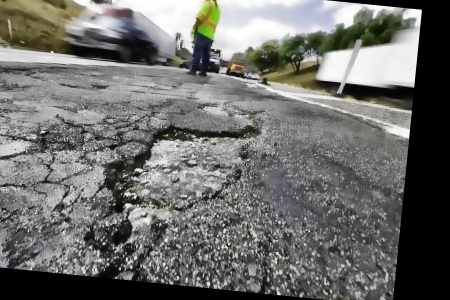pothole: (98, 108, 263, 223), (81, 212, 169, 283), (199, 100, 258, 121)
